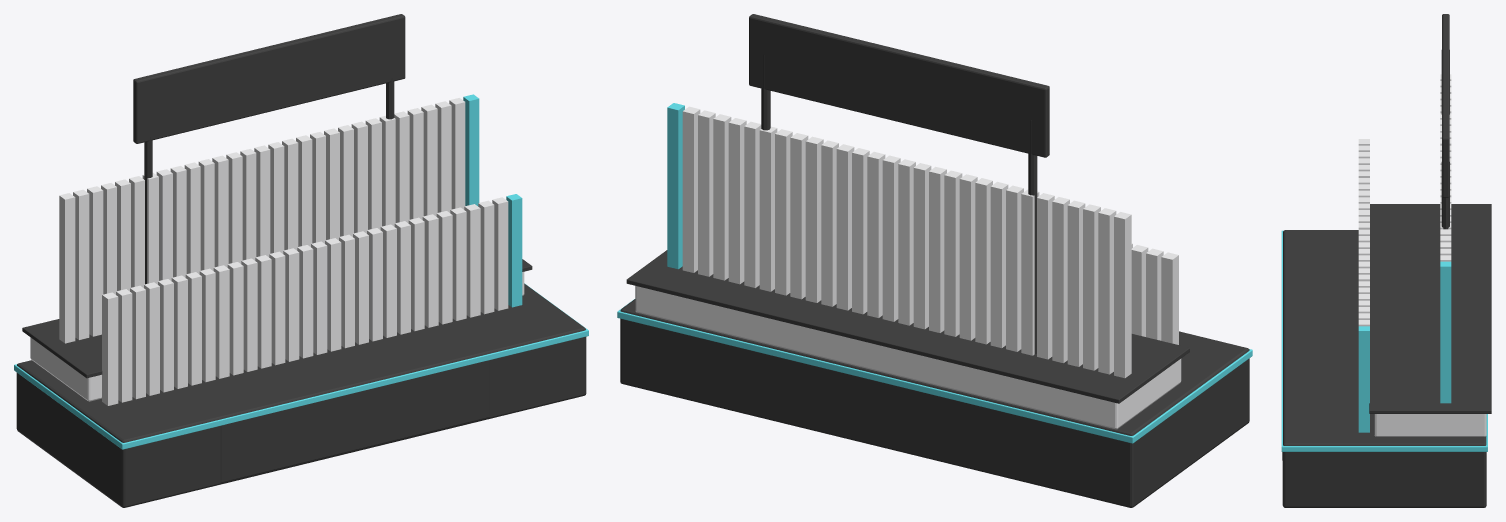
File: chart-plinth.glb
The picture shows the model from 3 angles, left to right: view 1: azimuth 30°, elevation 25°; view 2: azimuth 150°, elevation 25°; view 3: azimuth 270°, elevation 25°; orthographic projection. The views are drawn at different scales.
Parts seen in each view (by area): view 1: step_low, sign_board, face_counter, sign_back, step_band, vol_01, step_high_lip, vol_02, vol_03, rev_01, face_frame, step_high (+56 smaller); view 2: step_low, sign_back, step_high_lip, step_high, step_band, vol_01, vol_11, vol_16, vol_21, vol_26, vol_09, vol_12 (+27 smaller); view 3: step_low, step_high_lip, step_high, step_band, vol_30, sign_back, rev_30, sign_post_r.
Boxes of the visible parts, <box> form: step_low: <box>16,283,586,507</box>; sign_board: <box>141,22,401,138</box>; face_counter: <box>226,361,485,477</box>; sign_back: <box>133,14,405,143</box>; step_band: <box>14,283,588,449</box>; vol_01: <box>59,193,75,343</box>; step_high_lip: <box>22,259,532,378</box>; vol_02: <box>73,189,89,339</box>; vol_03: <box>87,186,103,336</box>; rev_01: <box>102,292,118,405</box>; face_frame: <box>220,360,489,482</box>; step_high: <box>30,271,524,401</box>; step_low: <box>620,299,1249,507</box>; sign_back: <box>749,14,1049,157</box>; step_high_lip: <box>626,250,1189,403</box>; step_high: <box>635,286,1181,429</box>; step_band: <box>617,299,1252,443</box>; vol_01: <box>1114,212,1131,378</box>; vol_11: <box>959,174,977,340</box>; vol_16: <box>882,155,900,321</box>; vol_21: <box>805,136,823,302</box>; vol_26: <box>728,118,746,284</box>; vol_09: <box>990,181,1008,348</box>; vol_12: <box>944,170,962,336</box>; step_low: <box>1282,230,1486,507</box>; step_high_lip: <box>1369,204,1491,413</box>; step_high: <box>1374,414,1486,436</box>; step_band: <box>1281,230,1487,451</box>; vol_30: <box>1440,261,1451,403</box>; sign_back: <box>1442,14,1449,197</box>; rev_30: <box>1358,326,1369,432</box>; sign_post_r: <box>1441,162,1449,229</box>.
Bounding box in the file's own units: 10.05 × 7.05 × 4.13.
